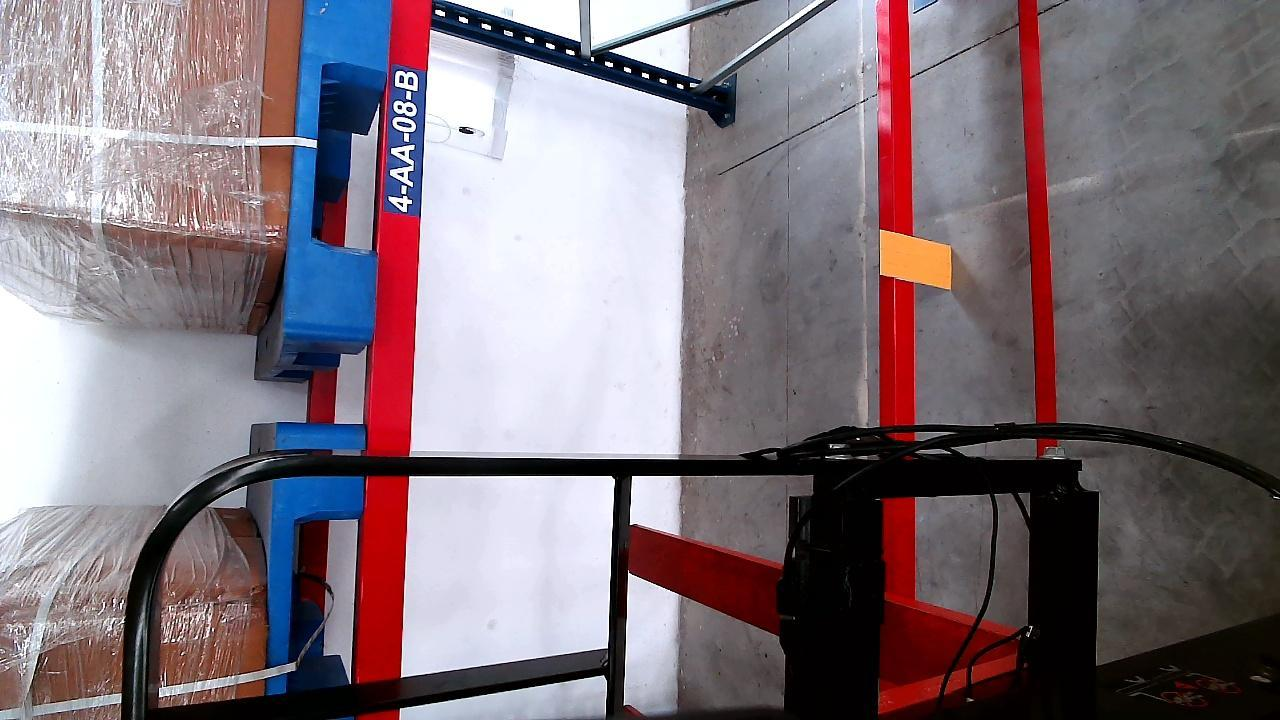red_line: (1022, 0, 1060, 426)
